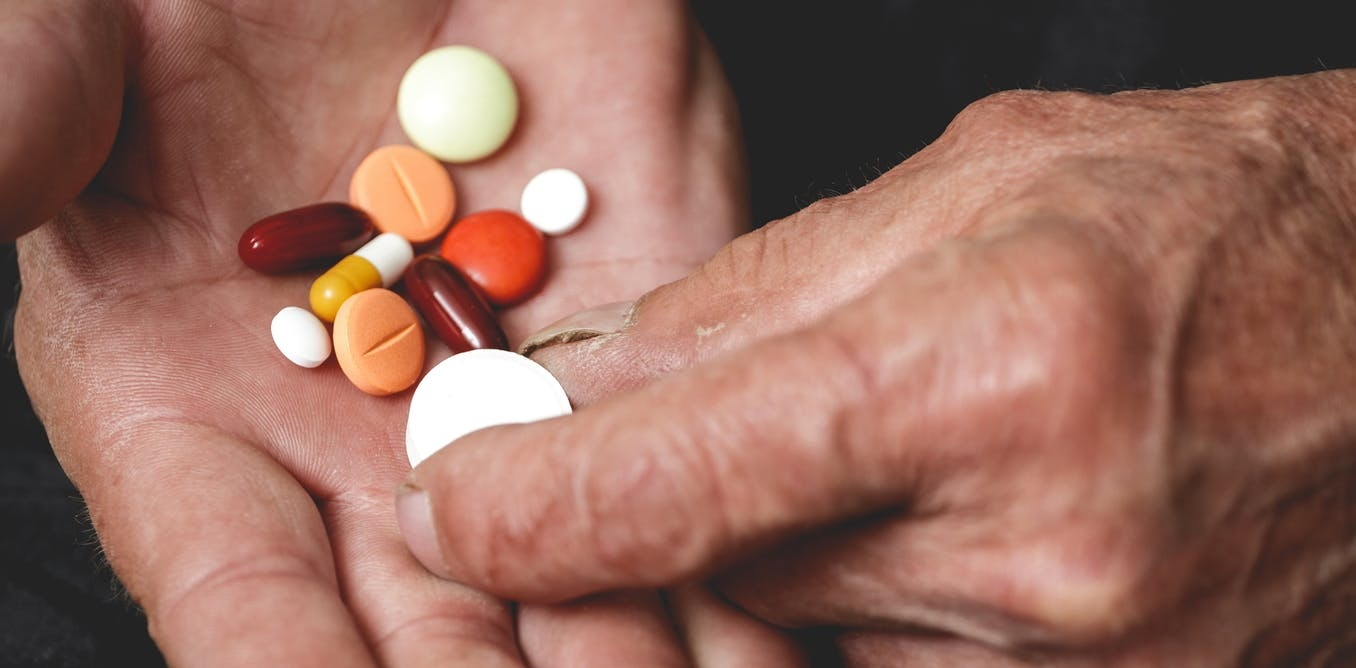pills: (389, 41, 519, 162), (411, 254, 524, 353), (437, 210, 542, 306), (234, 200, 384, 266), (343, 291, 424, 391), (277, 294, 330, 366), (531, 172, 585, 232)
